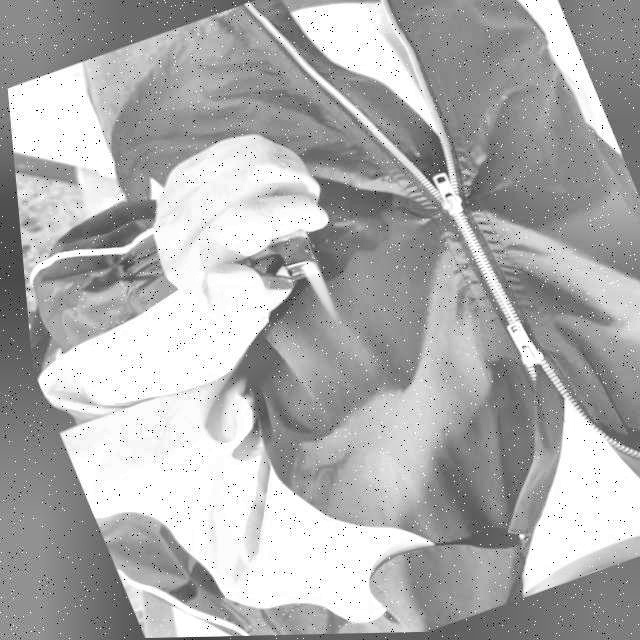Fire: (292, 260, 335, 323)
